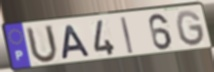4: (93, 18, 117, 57)
6: (148, 12, 174, 52)
A: (61, 23, 93, 61)
G: (175, 9, 207, 48)
I: (119, 16, 135, 55)
U: (25, 24, 60, 66)
